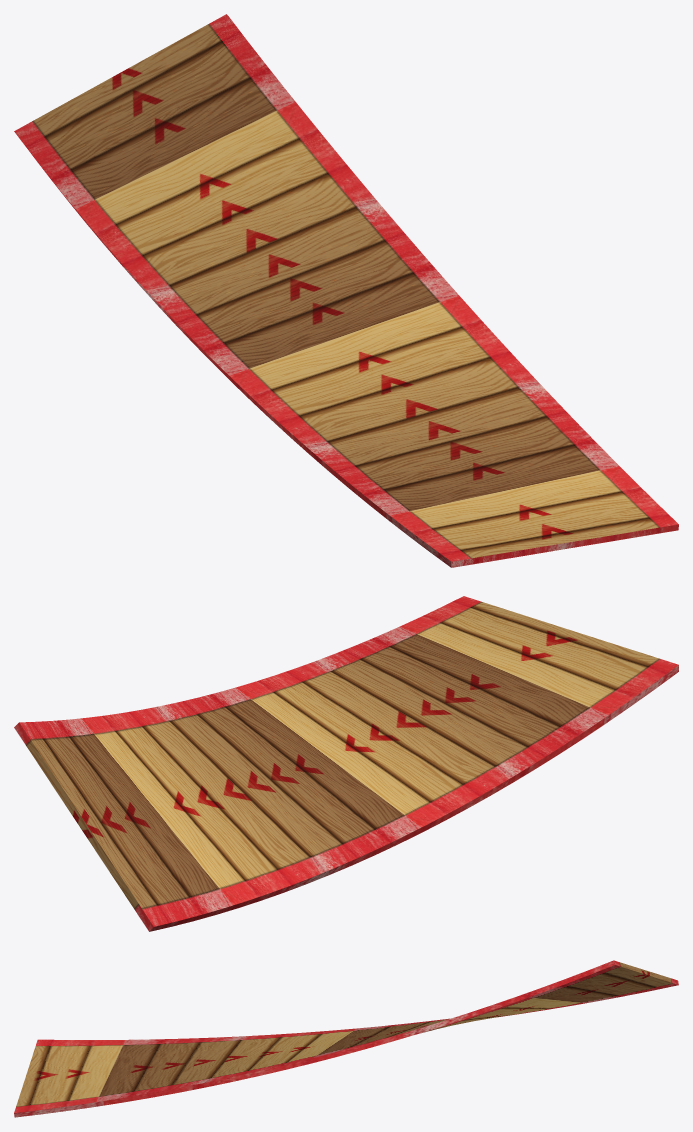
The model's file is 14_Twist_Ramp new.FBX.
The picture shows the model from 3 angles, top to bottom: view 1: azimuth 30°, elevation 25°; view 2: azimuth 150°, elevation 25°; view 3: azimuth 270°, elevation 25°; orthographic projection. The views are drawn at different scales.
Parts seen in each view (by area): view 1: Box007; view 2: Box007; view 3: Box007.
Boxes of the visible parts, bbox=[...] form: Box007: bbox=[14, 14, 678, 567]; Box007: bbox=[14, 596, 678, 931]; Box007: bbox=[14, 960, 678, 1117].
Size of the model in its own units: 5.95 by 5.68 by 23.1.
